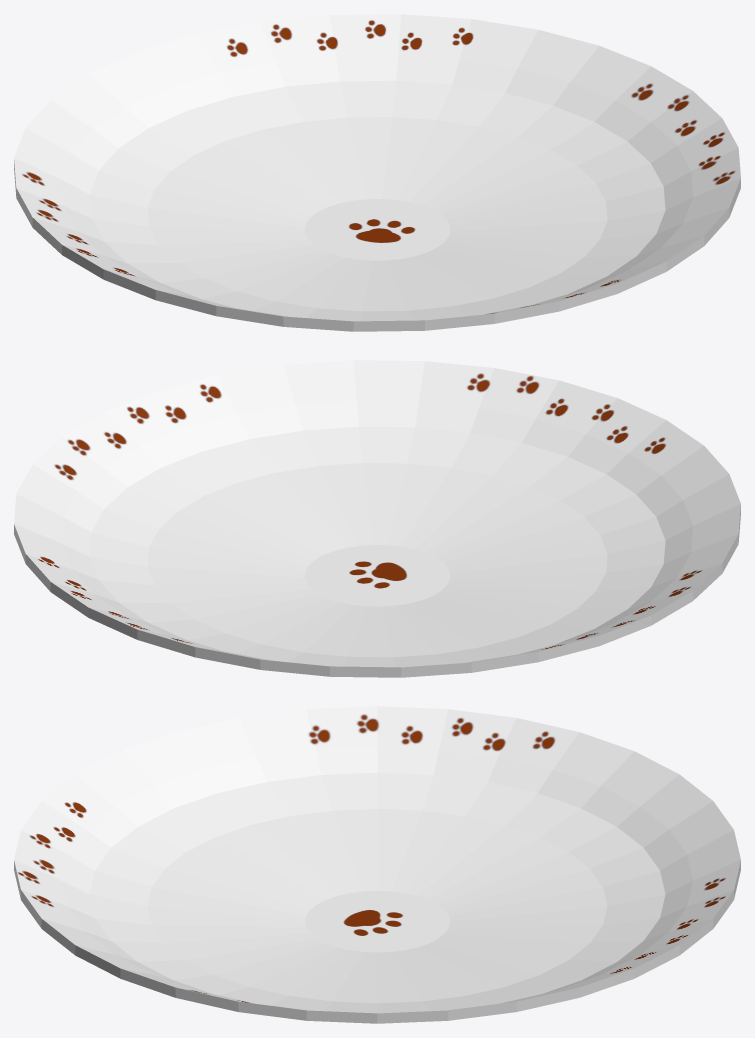
File: Plate_Ver002.fbx
The picture shows the model from 3 angles, top to bottom: view 1: azimuth 30°, elevation 25°; view 2: azimuth 150°, elevation 25°; view 3: azimuth 270°, elevation 25°; orthographic projection.
Visible parts, largest first — view 1: 円柱; view 2: 円柱; view 3: 円柱.
Boxes of the visible parts, left/top/right/bottom form: 円柱: left=14, top=14, right=740, bottom=331; 円柱: left=14, top=360, right=740, bottom=677; 円柱: left=14, top=706, right=740, bottom=1023.
Bounding box in the file's own units: 800 × 82.55 × 800.
1 material, 1 textured.
